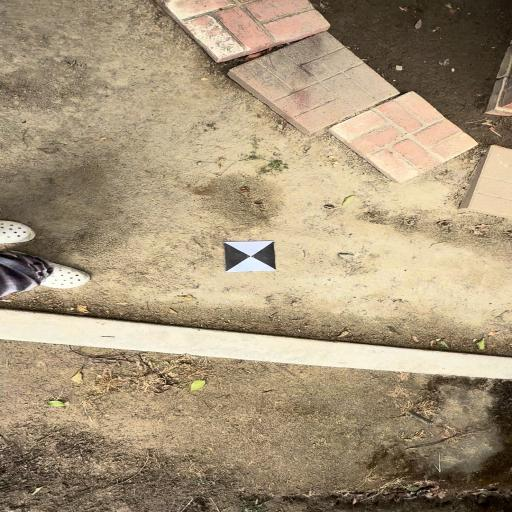target: (225, 242, 276, 271)
